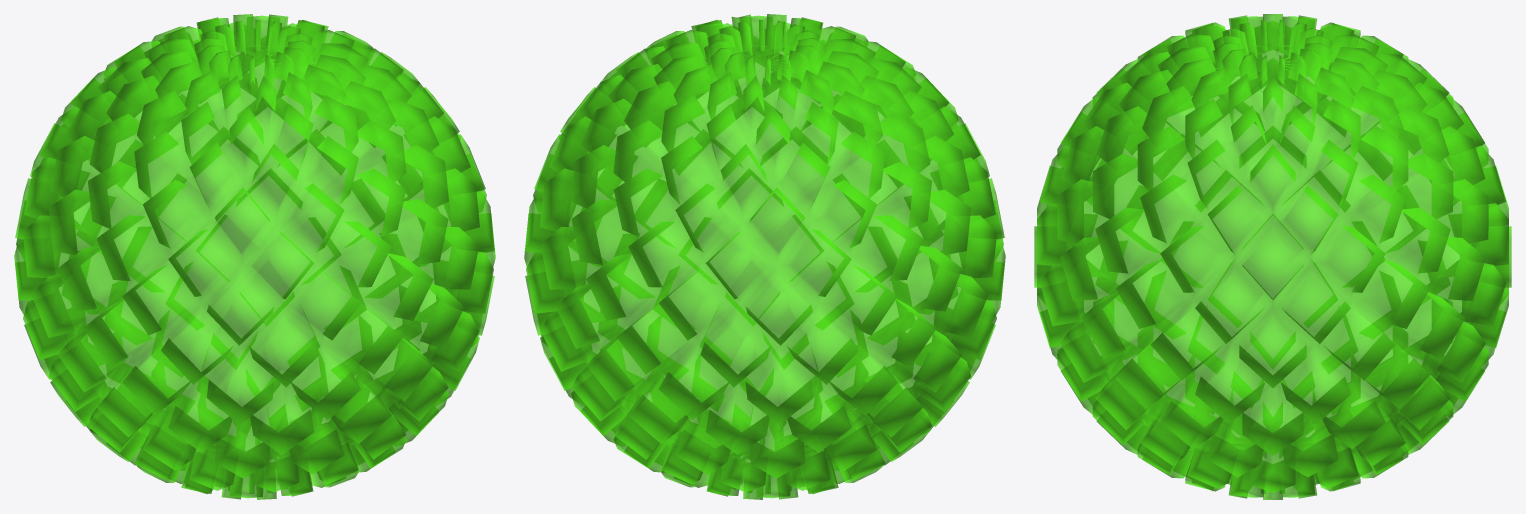
File: green_glass_matrix_2.glb
3 renders of one model, left to right at view 1: azimuth 30°, elevation 25°; view 2: azimuth 150°, elevation 25°; view 3: azimuth 270°, elevation 25°, orthographic.
Parts seen in each view (by area): view 1: Sphere.018; view 2: Sphere.018; view 3: Sphere.018.
Boxes of the visible parts, left/top/right/bottom form: Sphere.018: left=14, top=14, right=495, bottom=499; Sphere.018: left=524, top=14, right=1005, bottom=499; Sphere.018: left=1034, top=14, right=1511, bottom=499.
Bounding box in the file's own units: 2.23 × 2.23 × 2.23.
